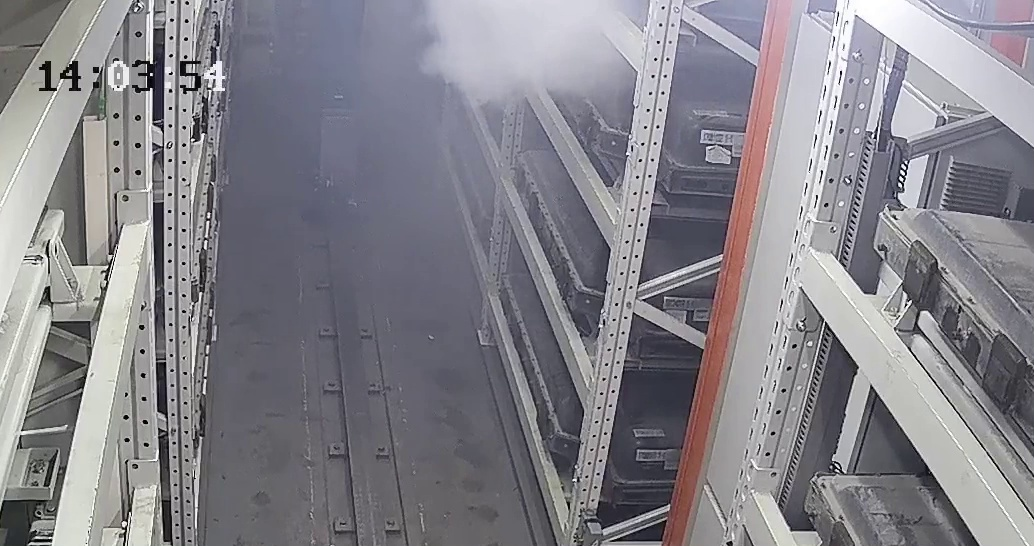smoke: (418, 5, 616, 114)
